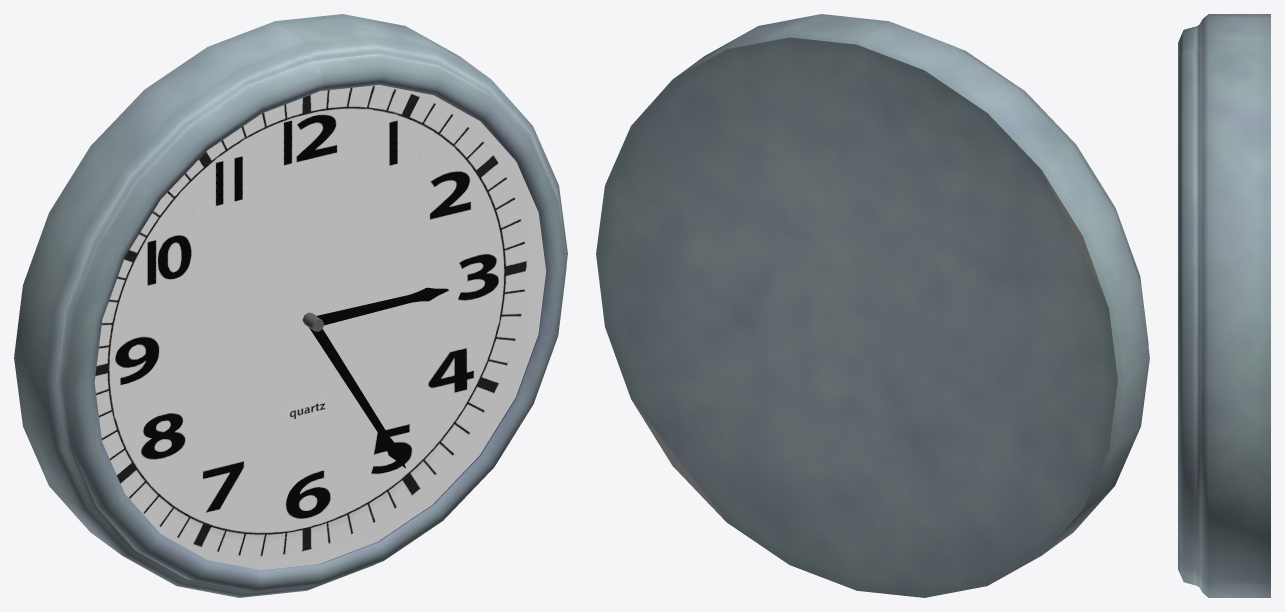
File: Clock_01.FBX
3 renders of one model, left to right at view 1: azimuth 30°, elevation 25°; view 2: azimuth 150°, elevation 25°; view 3: azimuth 270°, elevation 25°, orthographic. The views are drawn at different scales.
Parts seen in each view (by area): view 1: Clock_01, Clock_minutehand, Clock_hourhand; view 2: Clock_01; view 3: Clock_01.
Part boxes in pixels (x1,y1,x2,y2): Clock_01: (14, 14, 567, 597); Clock_minutehand: (306, 323, 405, 468); Clock_hourhand: (317, 287, 448, 325); Clock_01: (596, 14, 1149, 597); Clock_01: (1178, 14, 1270, 597).
Bounding box in the file's own units: 31.11 × 31.11 × 4.93.
Materials: 1 (1 with a texture image).
